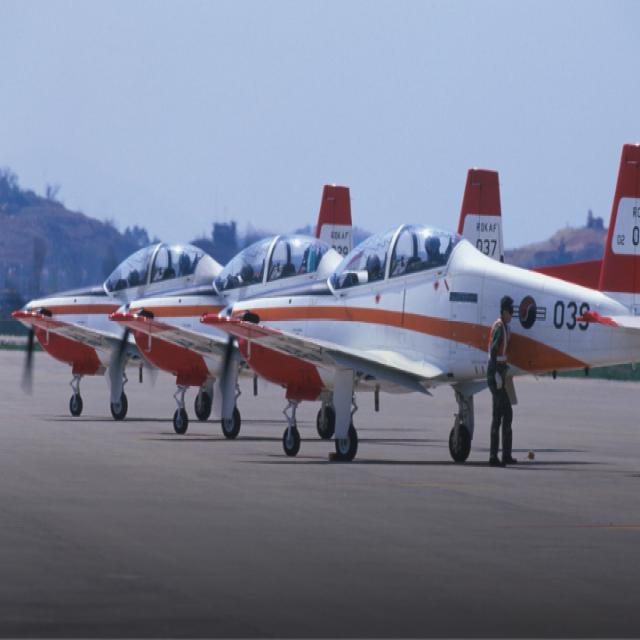KT-1: (226, 162, 640, 466), (107, 185, 500, 433), (15, 223, 230, 413)
